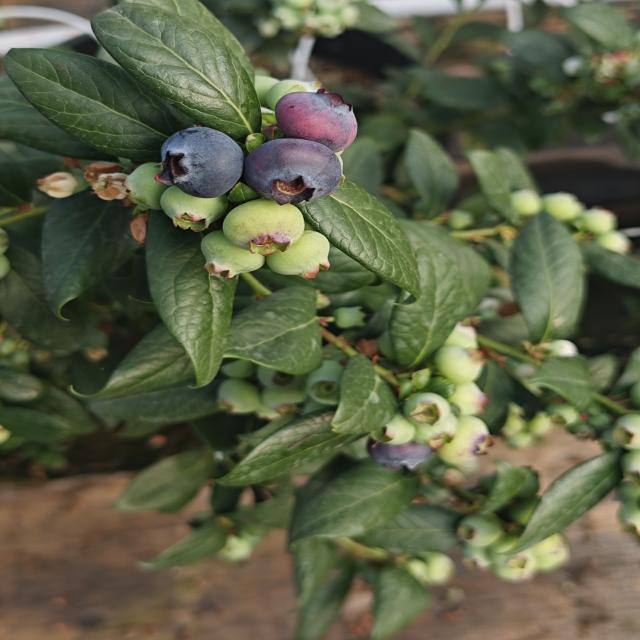ripe: (241, 136, 345, 208), (153, 125, 246, 201), (272, 89, 361, 154), (363, 420, 436, 476)
